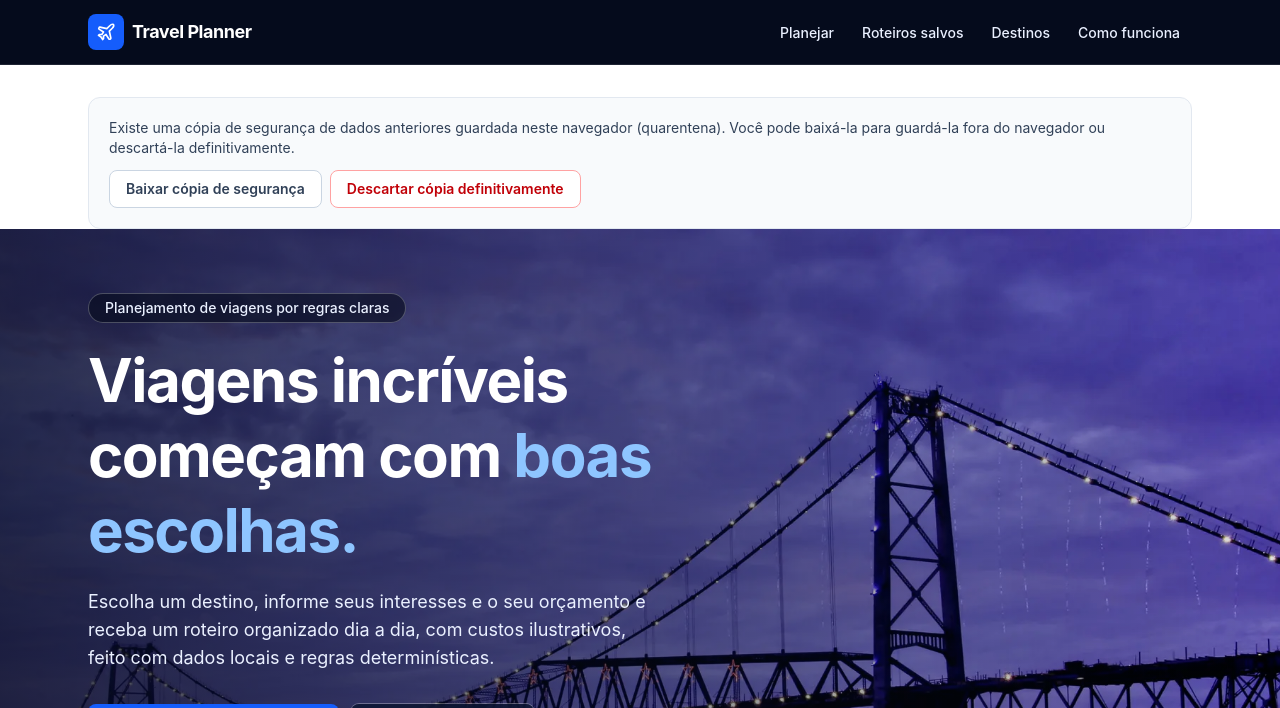
it: AUD-01 — descarte seguro da quarentena › descarte cancelado: nenhuma chave é alterada
Click the button "Descartar cópia definitivamente": (455, 189) [330, 170, 581, 208]
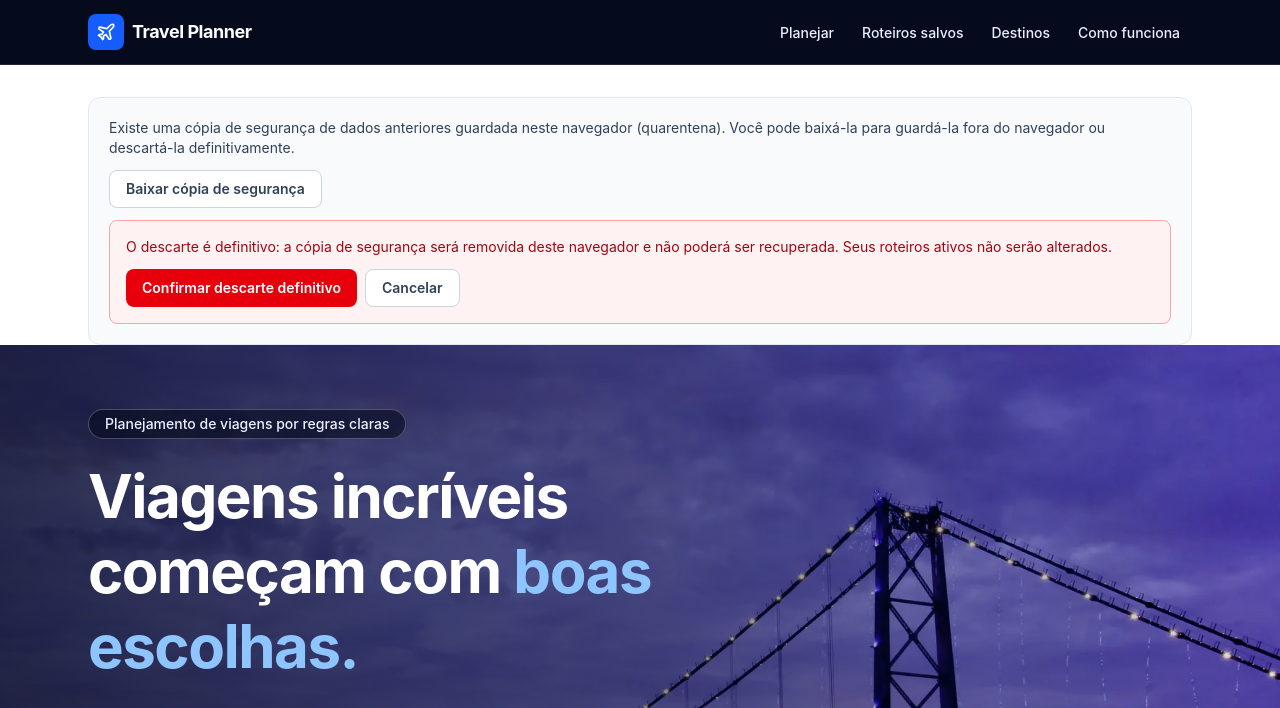
Now the text "O descarte é definitivo" is shown, box [126, 238, 1112, 255]
Click the button "Cancelar": (412, 288) [365, 269, 460, 307]
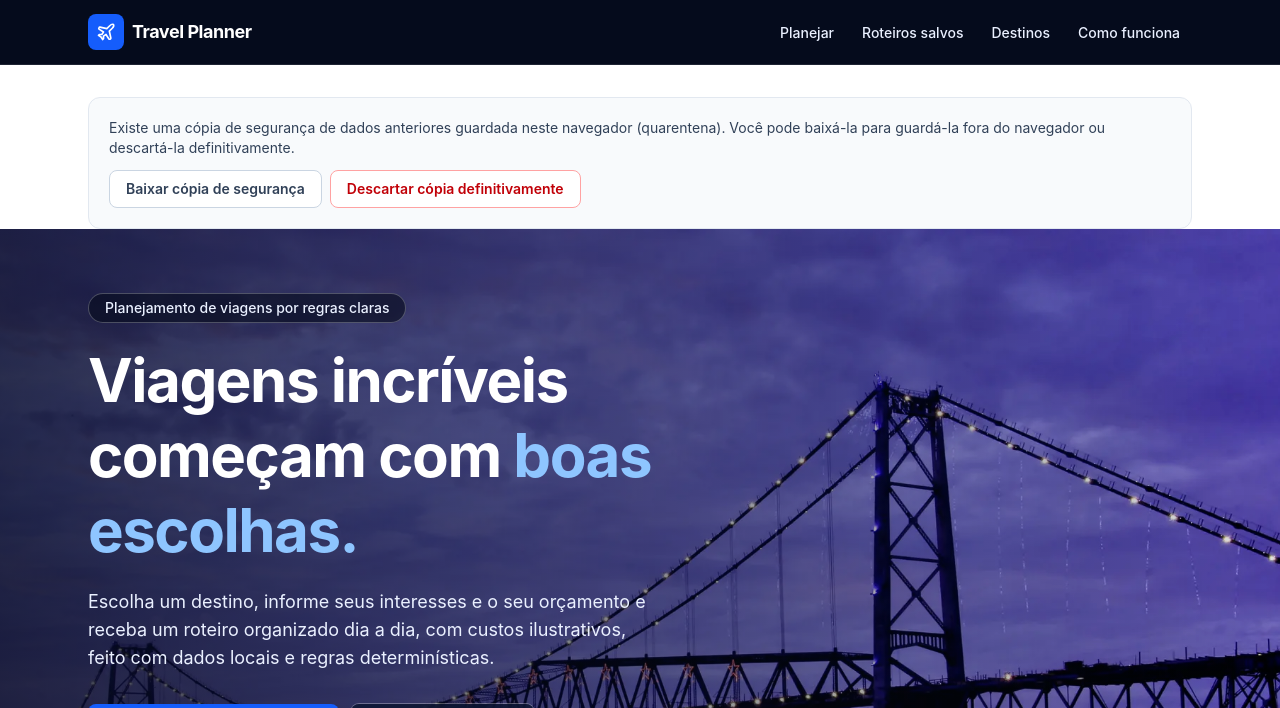
Now the text "O descarte é definitivo" is gone
